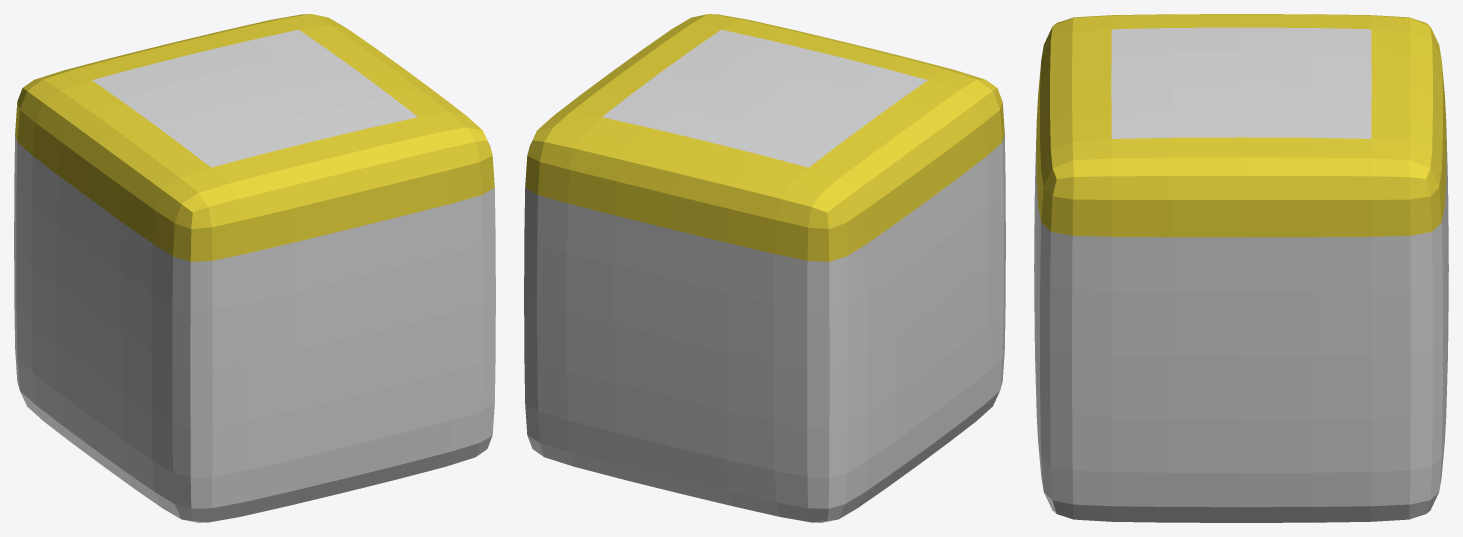
File: HighlightCube.fbx
The picture shows the model from 3 angles, left to right: view 1: azimuth 30°, elevation 25°; view 2: azimuth 150°, elevation 25°; view 3: azimuth 270°, elevation 25°; orthographic projection. The views are drawn at different scales.
Visible parts, largest first — view 1: Cube; view 2: Cube; view 3: Cube.
Boxes of the visible parts, left/top/right/bottom form: Cube: left=14, top=14, right=495, bottom=522; Cube: left=524, top=14, right=1005, bottom=522; Cube: left=1034, top=14, right=1448, bottom=522.
Size of the model in its own units: 199 by 199 by 199.
